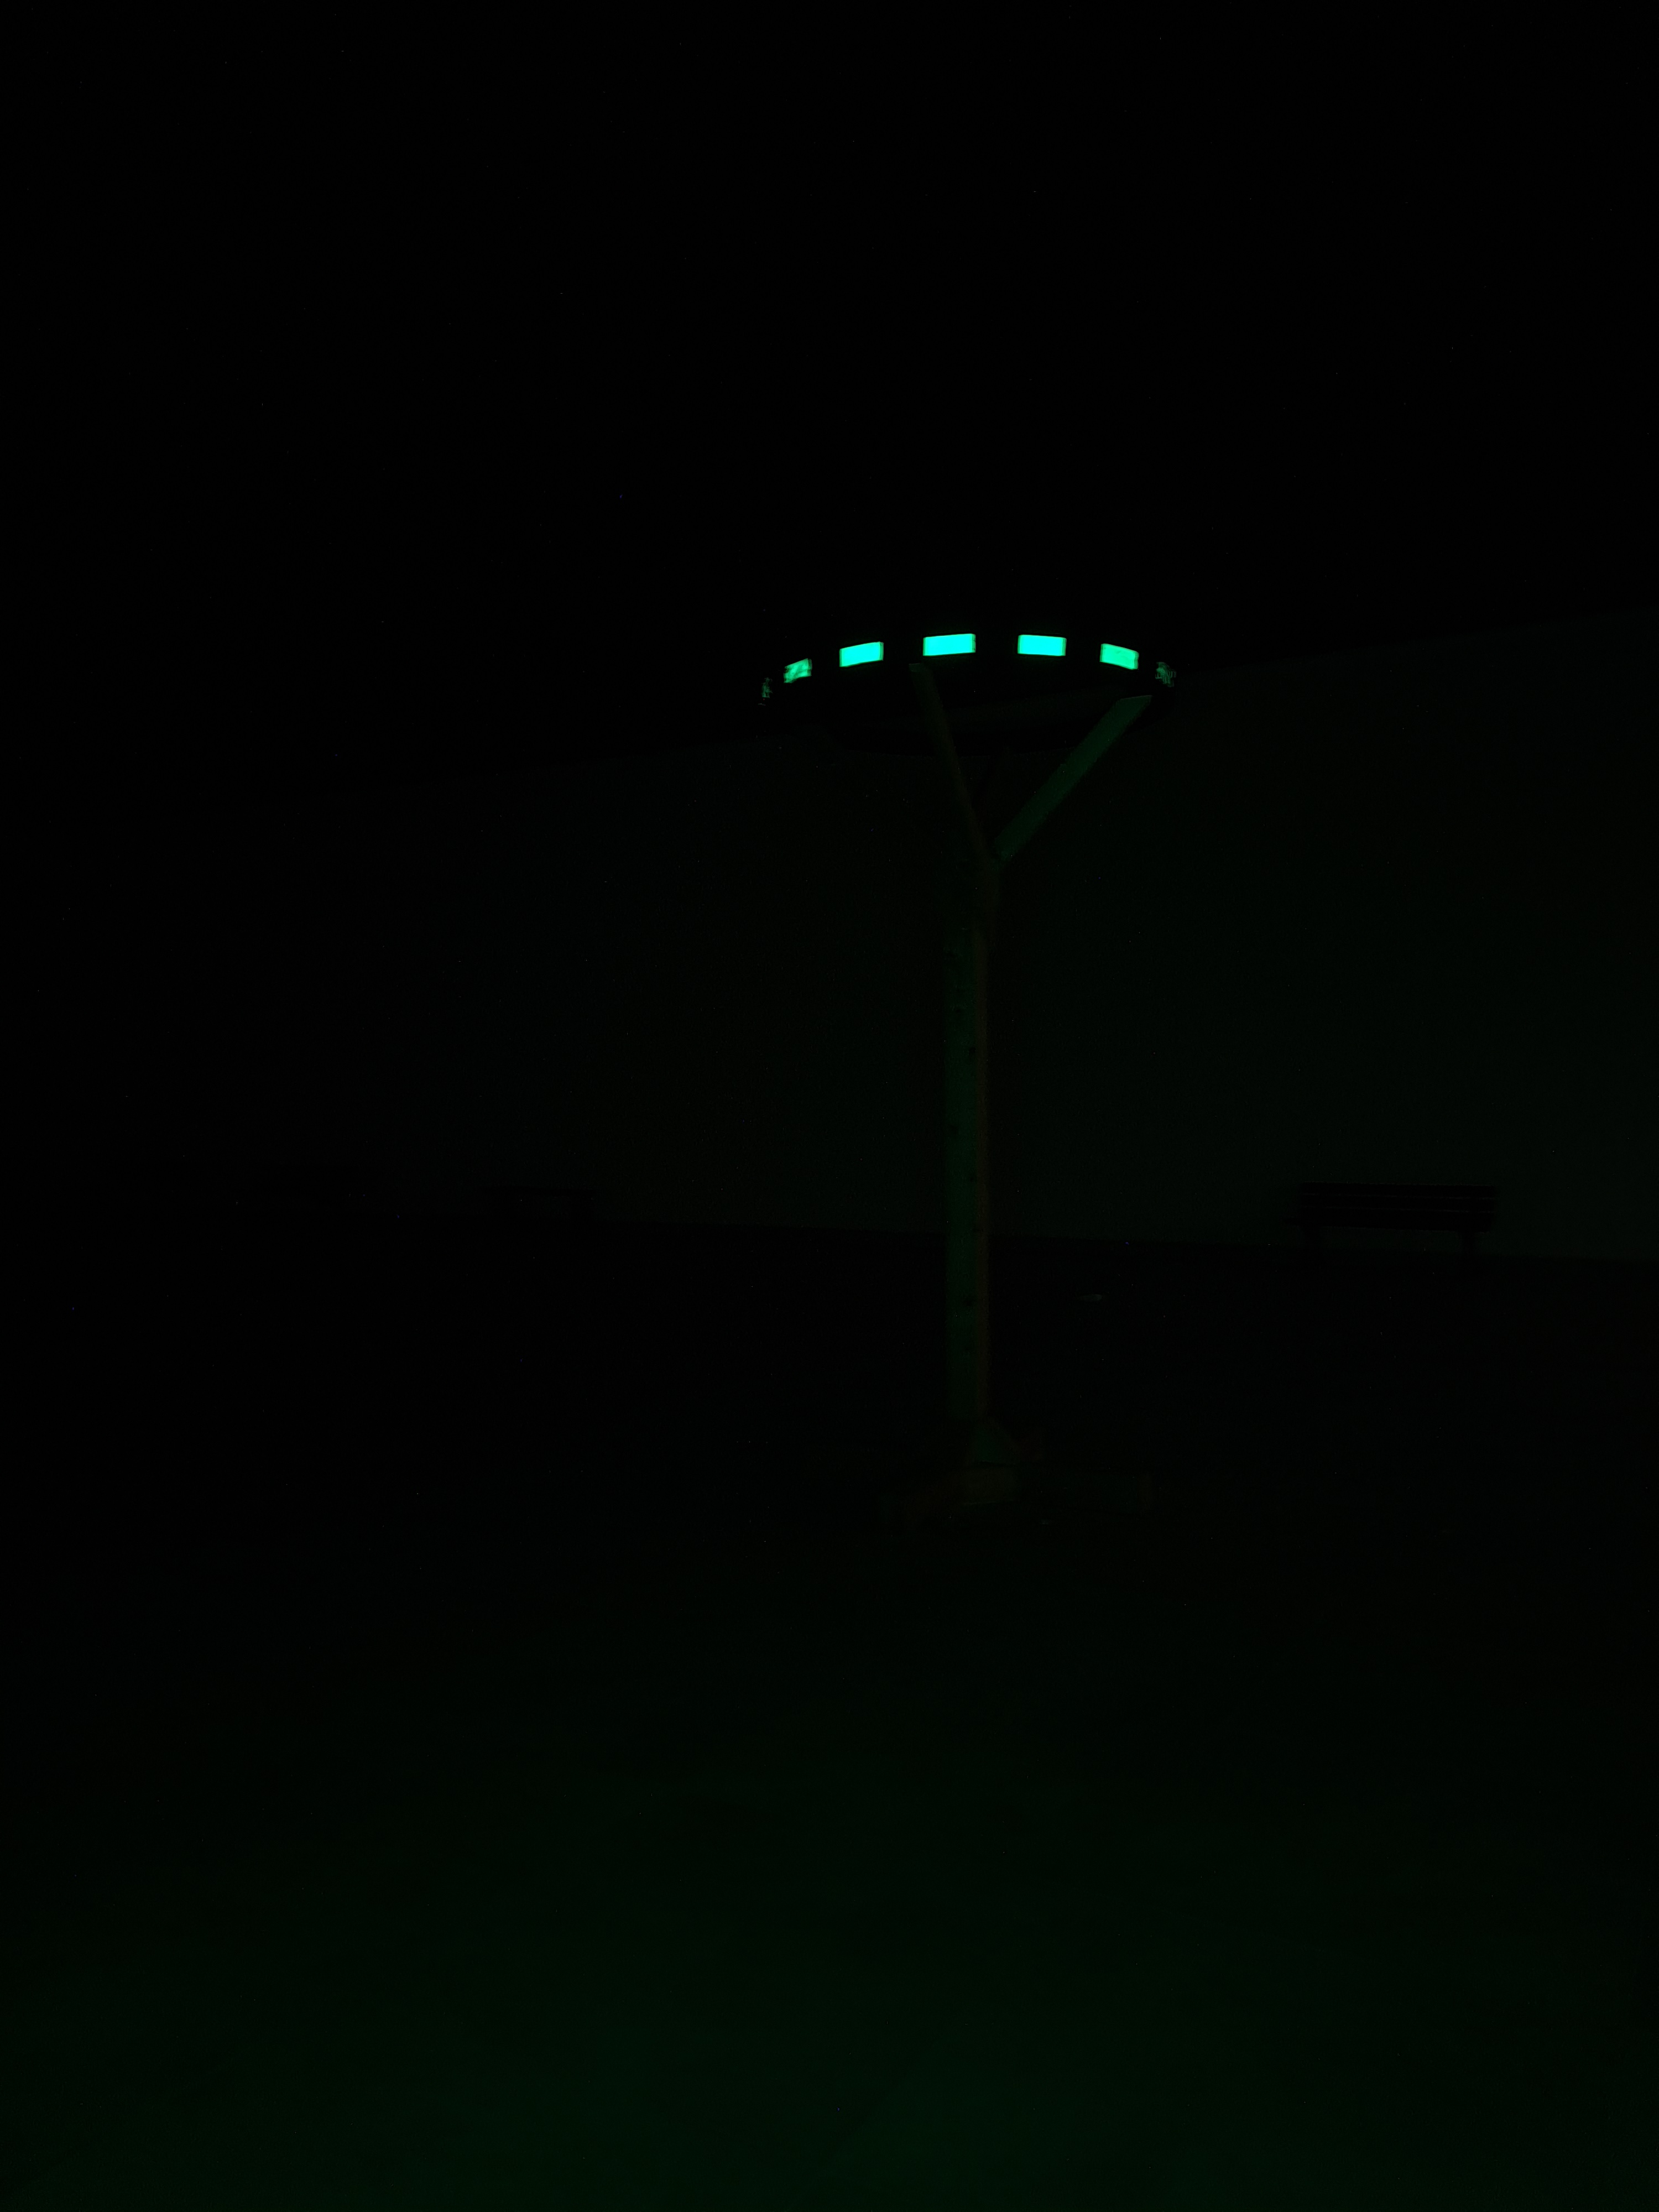hoop: (762, 631, 1178, 698)
